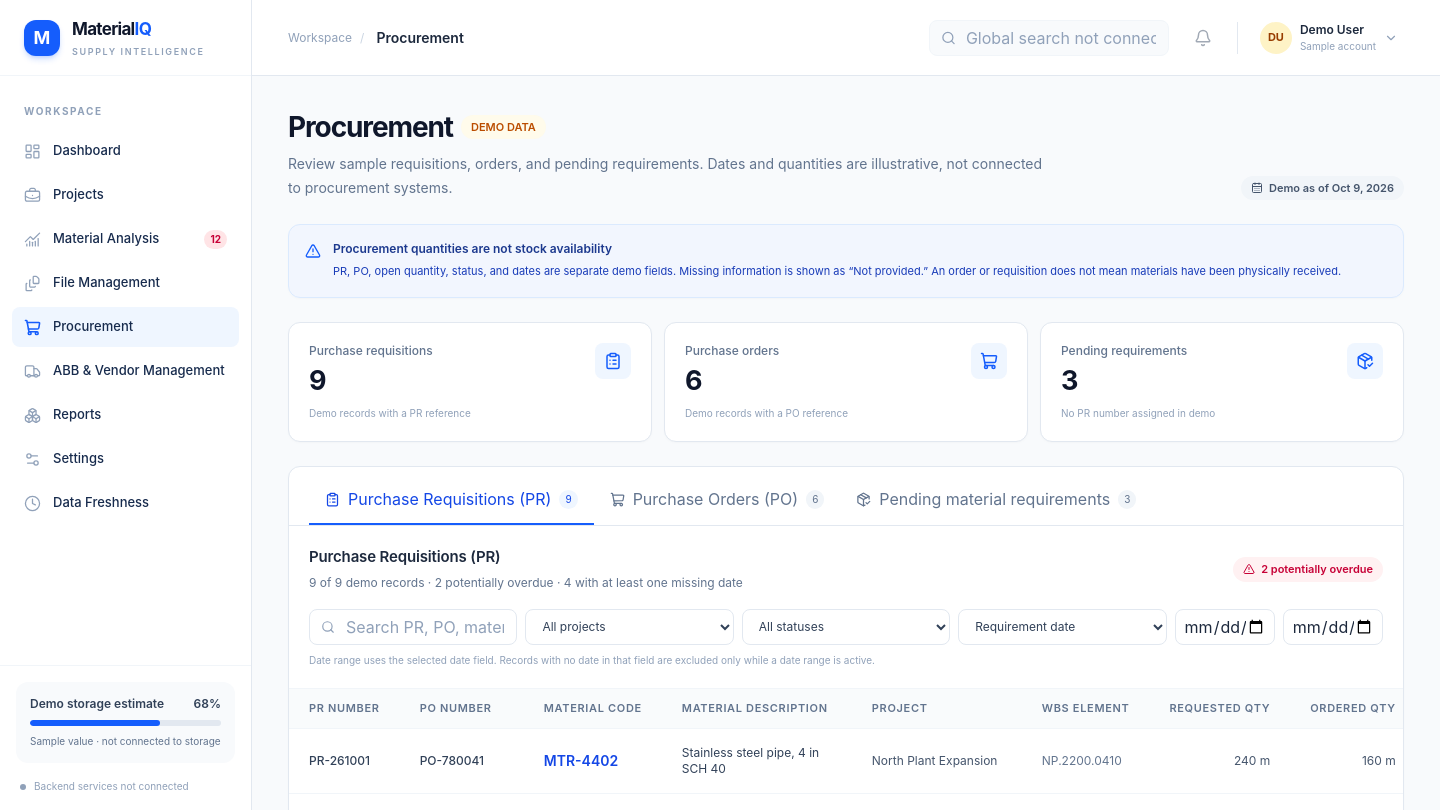
Test: MaterialIQ application › switches between PR, PO, and pending requirement records
Click the tab "Purchase Orders (PO) 6": [717, 500] box [594, 475, 840, 525]
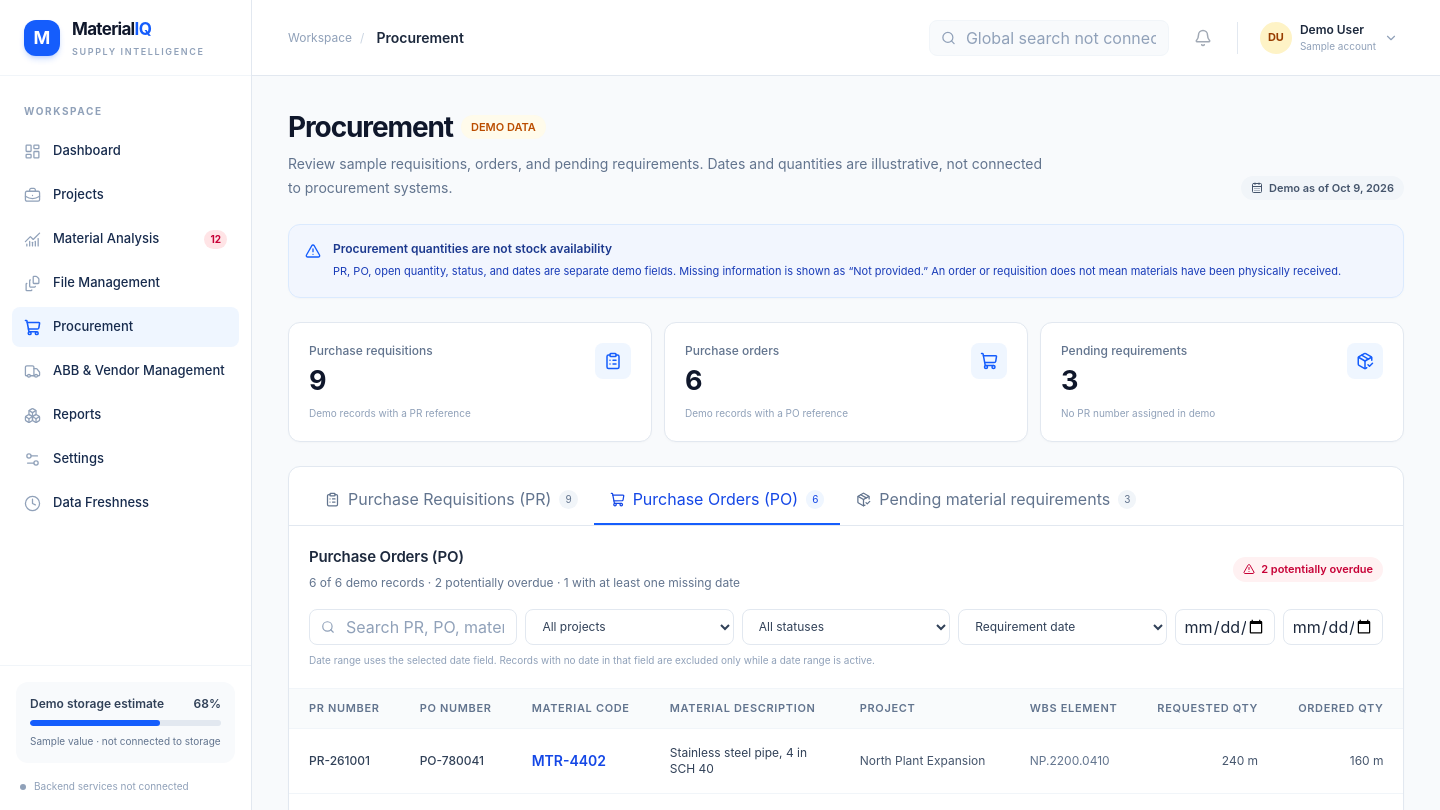
Expected: the row "PO-780041" is shown, [289, 729, 1403, 794]
Click the tab "Pending material requirements 3": [996, 500] box [840, 475, 1152, 525]
(page scrolled)
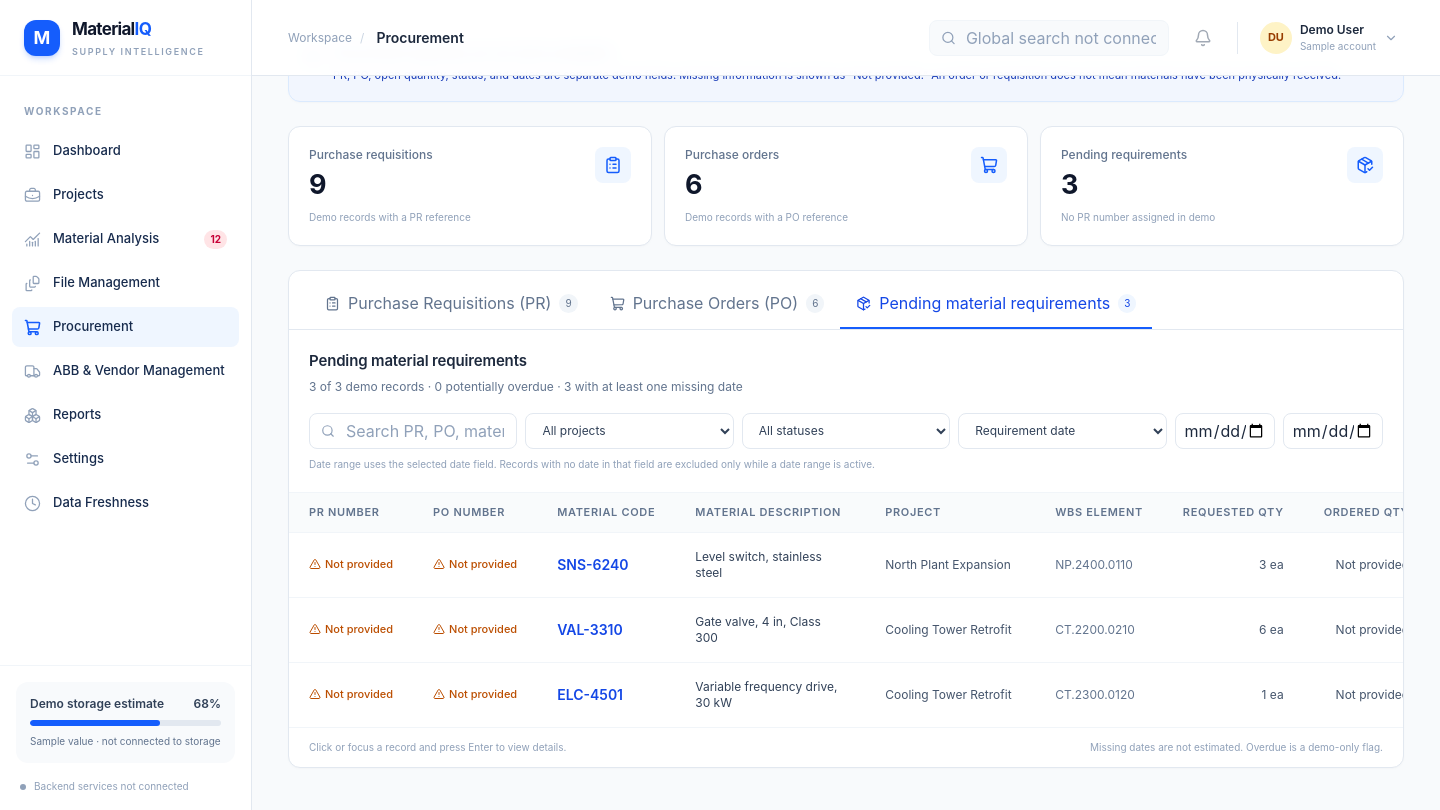
Expected: the row "SNS-6240" is shown, [289, 533, 1403, 598]
